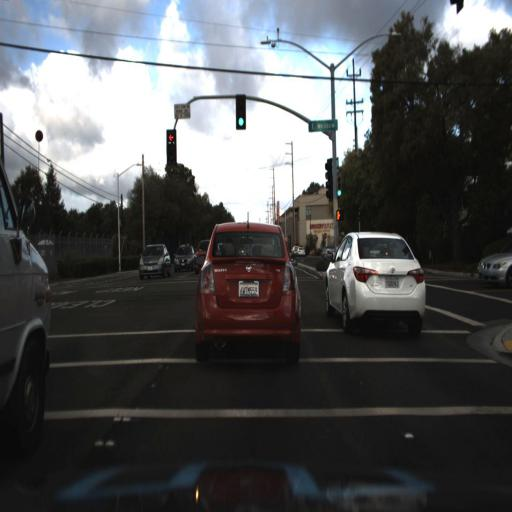car: (196, 222, 301, 365), (324, 231, 430, 340), (474, 228, 512, 300), (478, 243, 512, 290), (139, 243, 171, 281), (170, 238, 196, 278)
trafficLight: (234, 92, 248, 130), (335, 174, 344, 201)
trafficLight-RedLeft: (166, 130, 177, 168)
